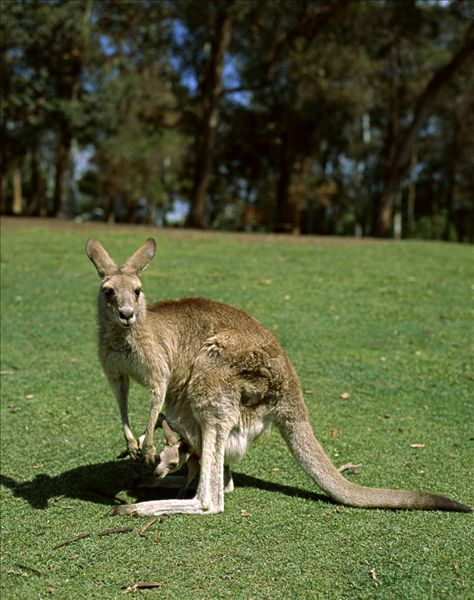kangaroo: (78, 232, 474, 535)
